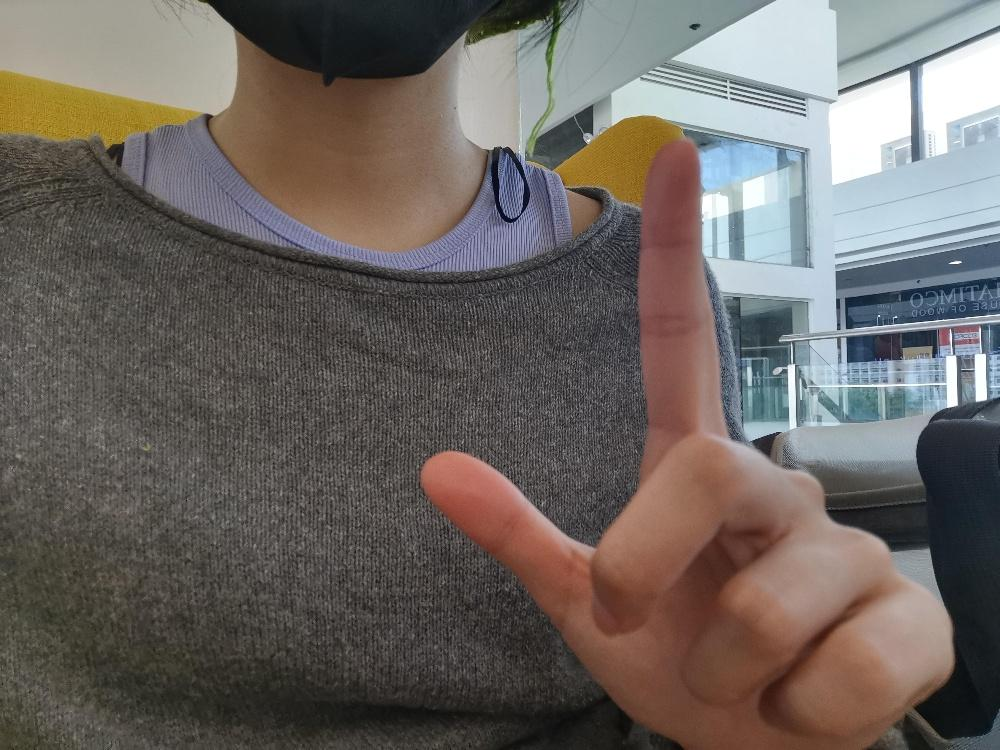l: (417, 135, 957, 749)
